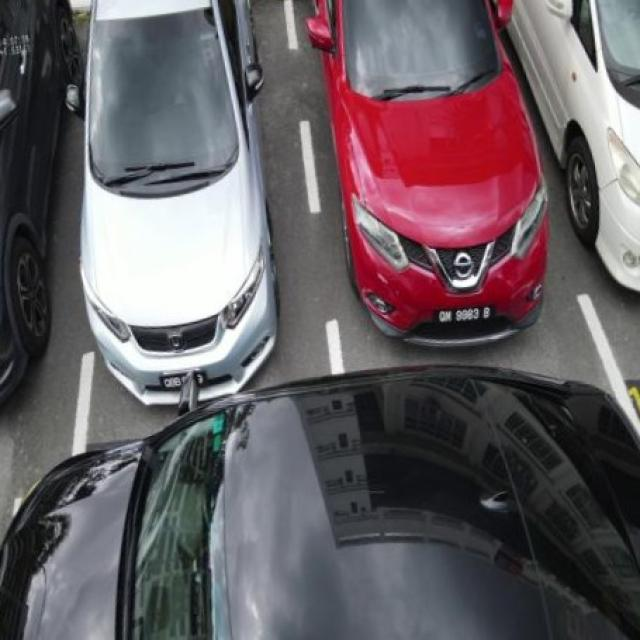Legalparking: (1, 1, 640, 398)
illegalparking: (2, 353, 640, 640)
